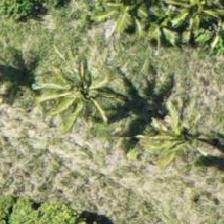coconut_tree: (9, 35, 99, 125), (127, 85, 217, 175)
